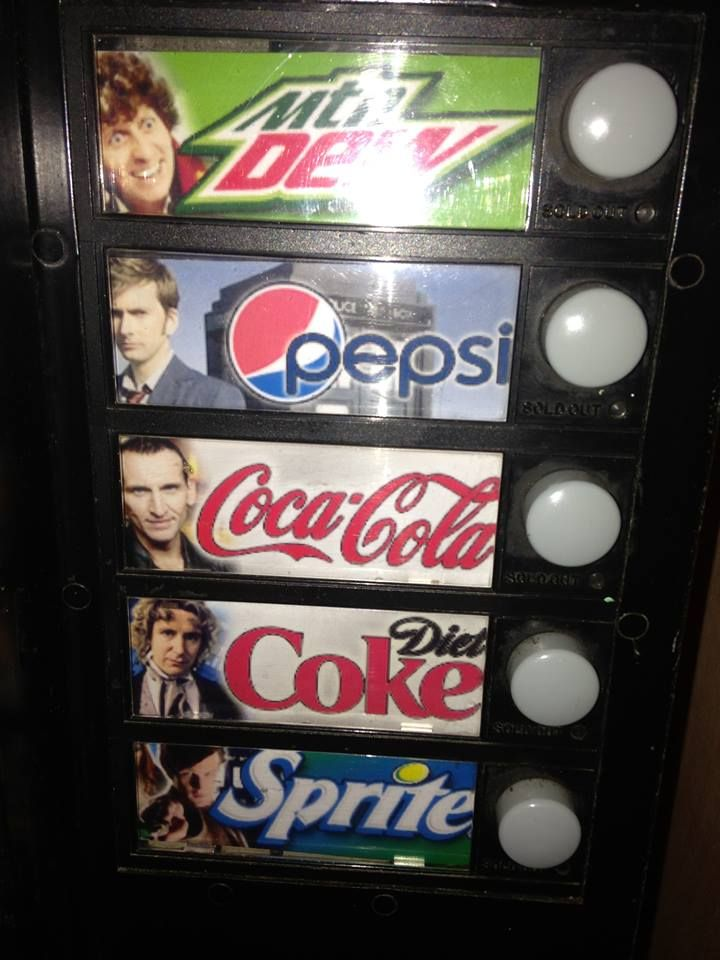sprite: (212, 745, 474, 839), (212, 745, 474, 828)
